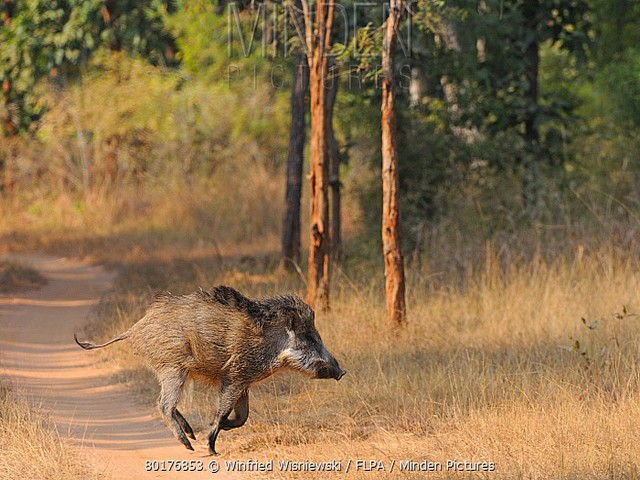Pig: (74, 280, 349, 451)
